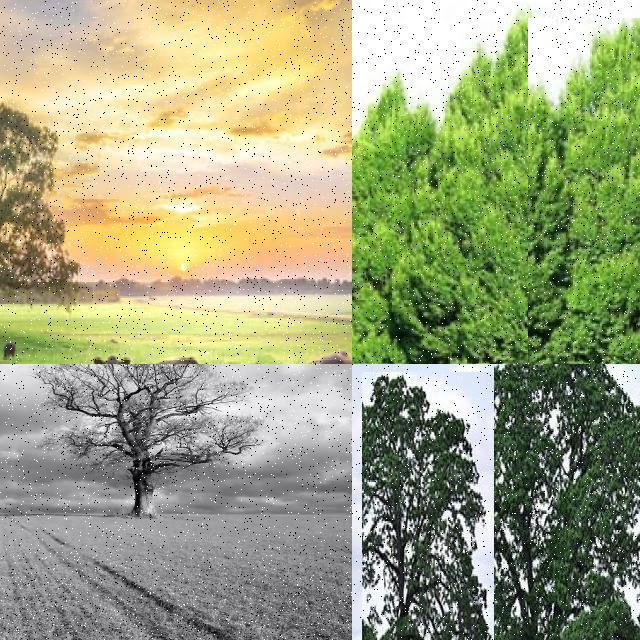tree: (413, 19, 613, 364), (494, 364, 640, 640), (528, 18, 640, 364), (362, 372, 502, 640), (31, 364, 261, 514), (352, 64, 432, 363), (558, 388, 640, 640), (0, 91, 73, 339), (596, 12, 640, 364)
